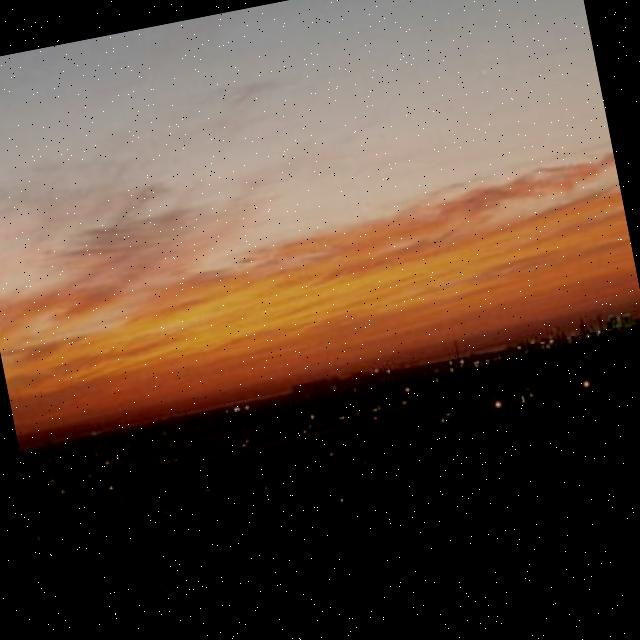Cs: (1, 32, 640, 428)
